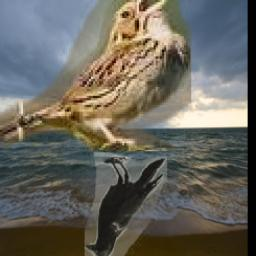Crow: (86, 152, 168, 256)
Sparrow: (0, 0, 191, 152)
